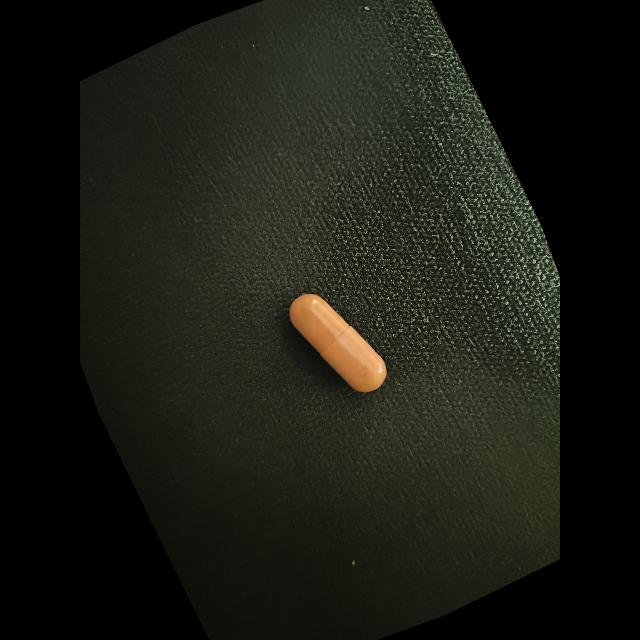Intact Capsule: (289, 294, 386, 392)
